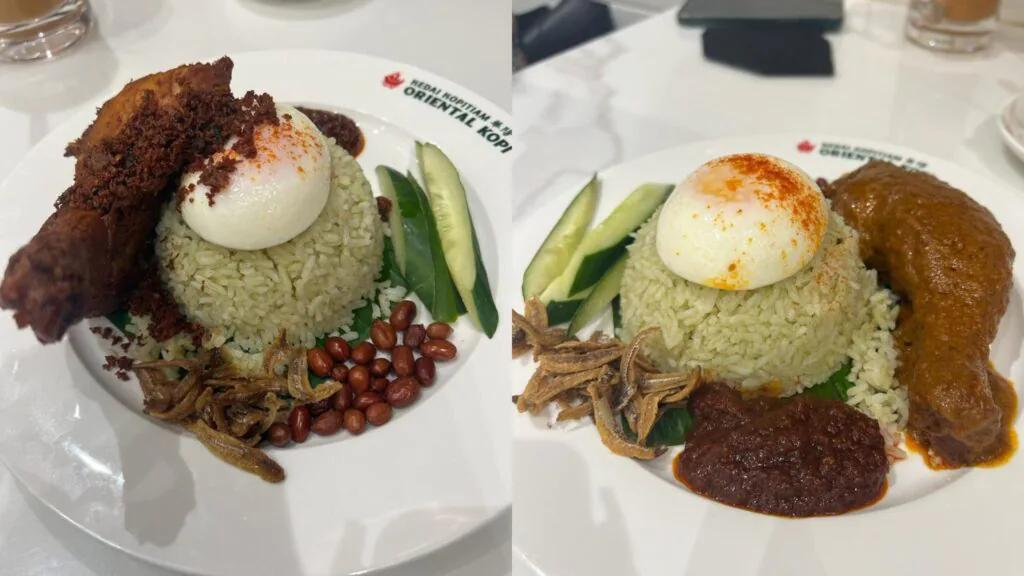Anchovies: (133, 327, 343, 484), (511, 296, 700, 461)
Boiled-Egg: (176, 102, 331, 252), (654, 156, 826, 291)
Cucumber: (522, 174, 676, 337), (375, 141, 499, 340)
Fried-Chicken: (0, 57, 280, 346)
Peanuts: (306, 301, 457, 440)
Rendang-Chicken: (817, 161, 1019, 471)
Rice: (621, 209, 909, 432), (157, 138, 381, 353)
Sambal: (670, 382, 892, 520), (295, 107, 365, 158)
